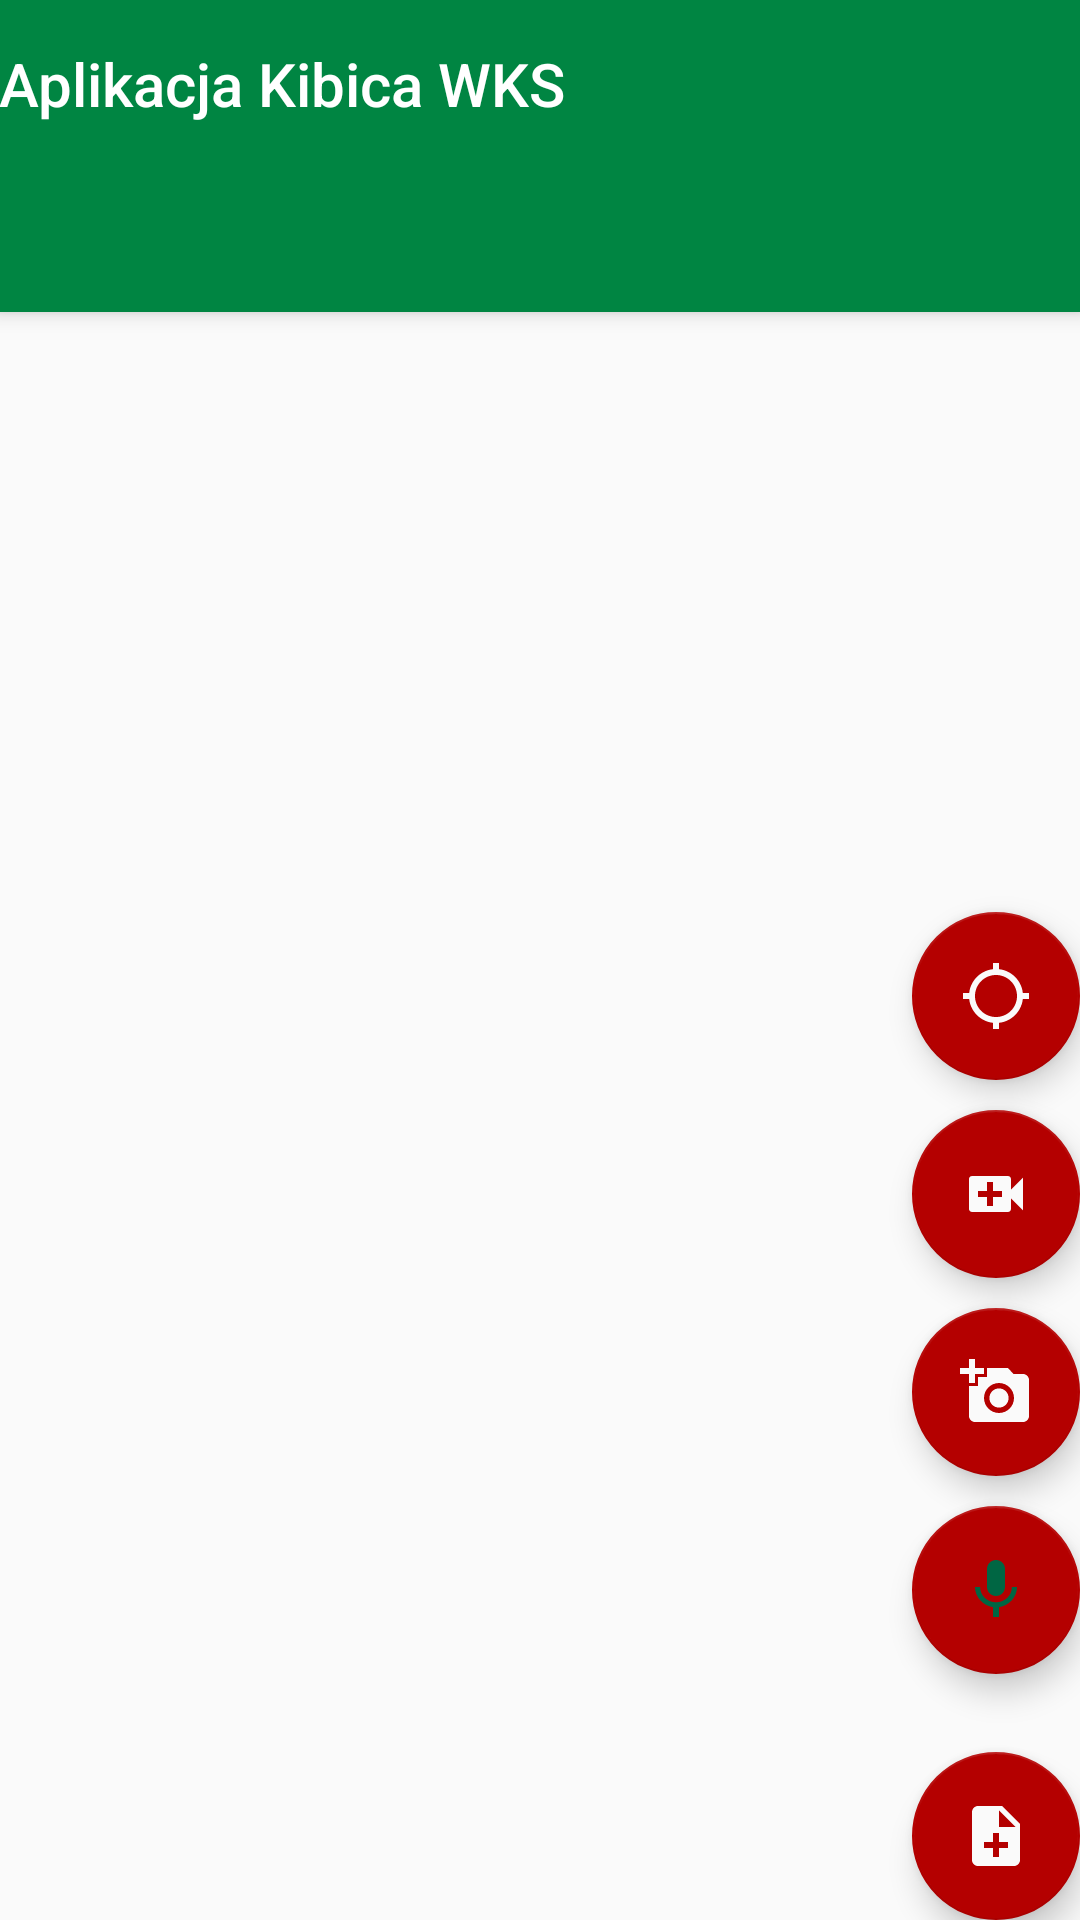

Icons on this 1080px x 1920px Android screen, each with its box as bbox=(x1, y1, x2, y2):
add photo: bbox=(912, 1308, 1080, 1476)
gps not fixed: bbox=(912, 912, 1080, 1080)
mic: bbox=(912, 1506, 1080, 1674)
note add: bbox=(912, 1752, 1080, 1920)
video call: bbox=(912, 1110, 1080, 1278)
